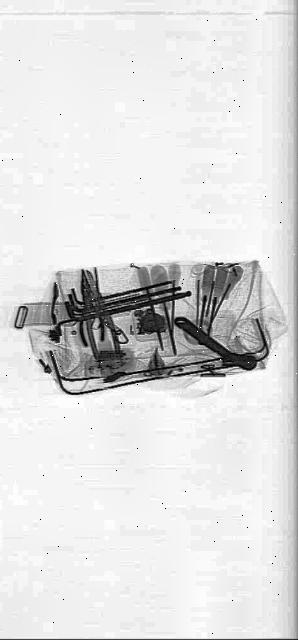Pliers: (76, 258, 122, 374), (72, 262, 106, 352)
Wrench: (173, 302, 258, 378)
